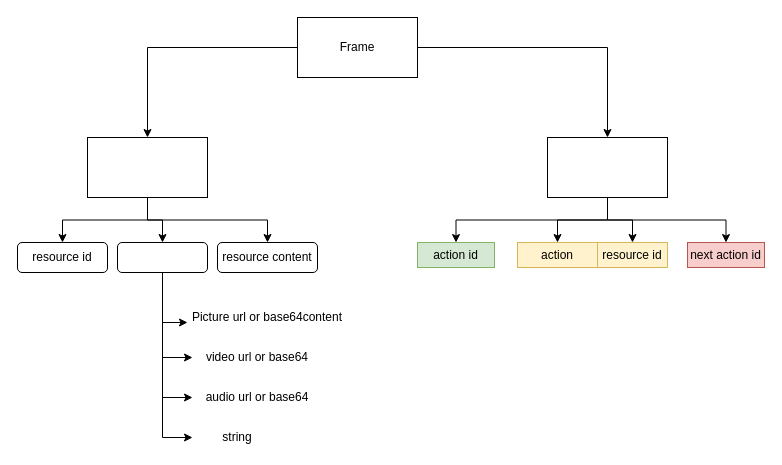
Image size: 782x465. Some labels were removed from this diagram. The centre of each missing label's shape, as x and y in pixels:
"actions" goes at point 607,167.
"resource type" goes at point 162,257.
"resources" goes at point 147,167.
